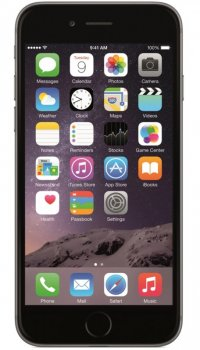Handphone: (10, 1, 185, 350)
